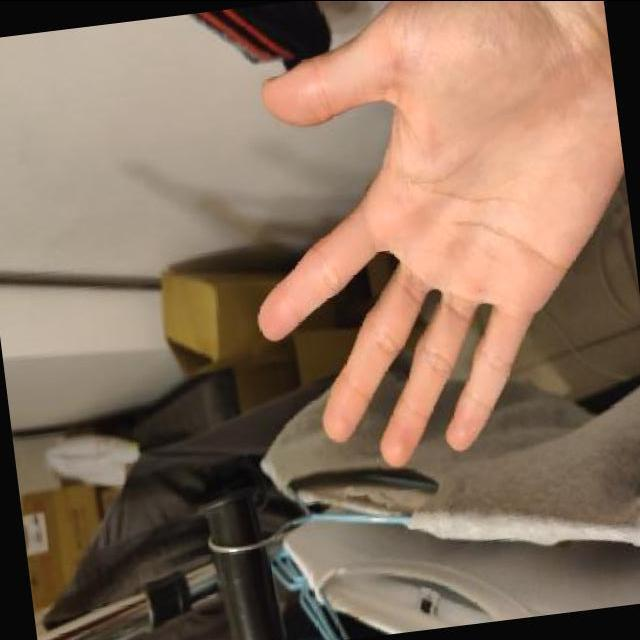Hand: (255, 2, 626, 472)
